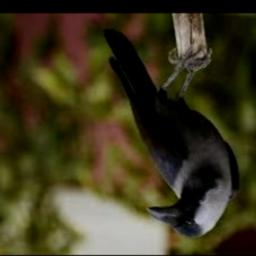Crow: (103, 29, 238, 239)
